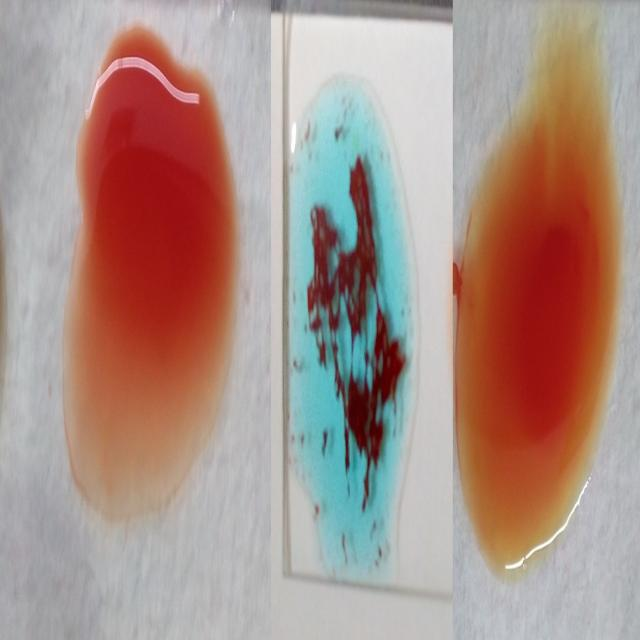A: (290, 85, 416, 566)
